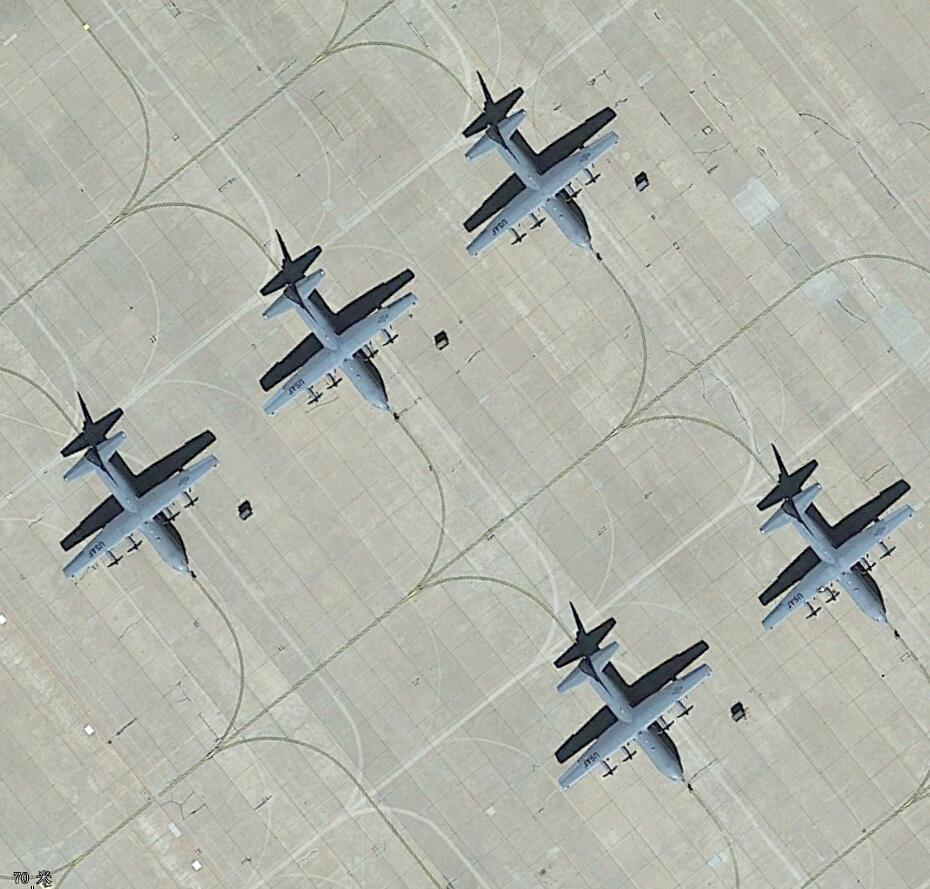A2: (455, 104, 634, 262), (546, 637, 716, 799), (57, 421, 223, 585), (255, 260, 423, 420), (744, 477, 914, 634)
